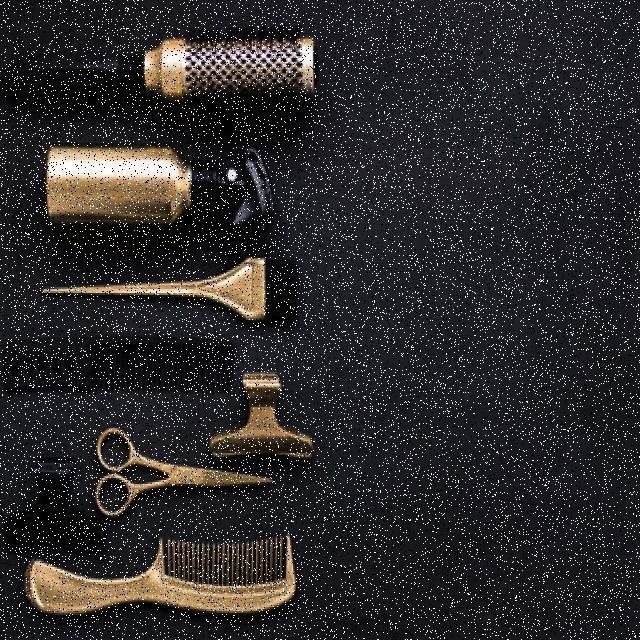scissors: (86, 411, 283, 526)
